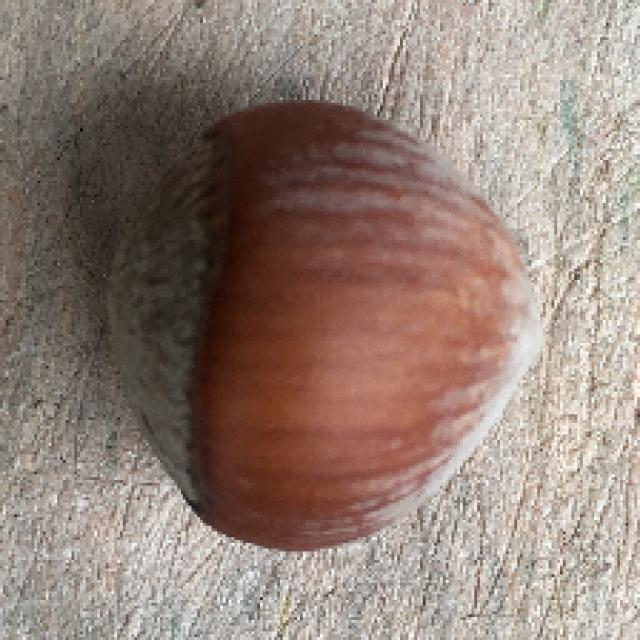qualityHazelnut: (97, 93, 551, 555)
